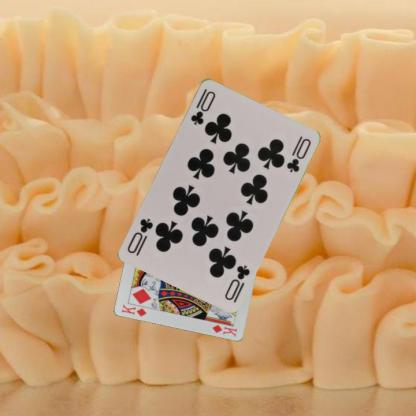10c: (222, 262, 251, 304), (188, 88, 216, 126)
Kd: (119, 301, 148, 318)
